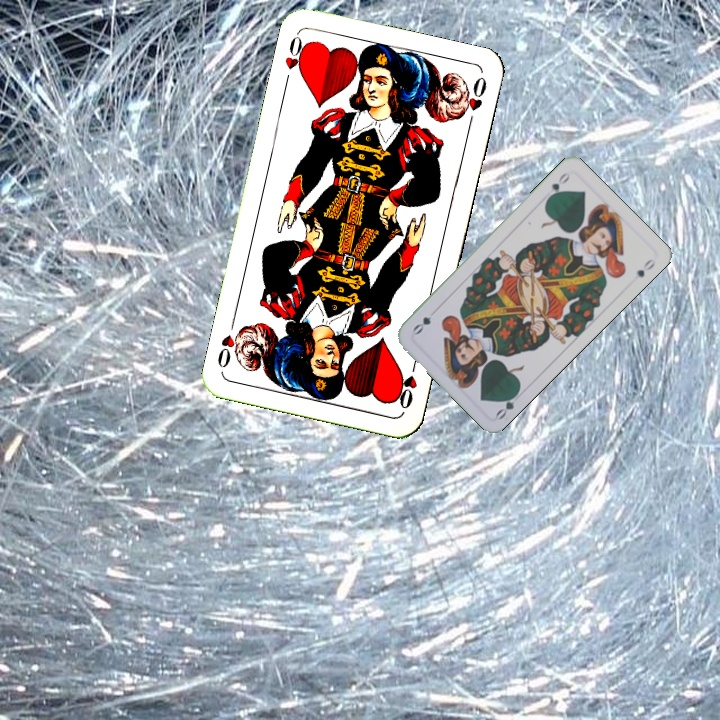GO: (492, 386, 522, 422), (543, 168, 572, 203)
HO: (280, 30, 311, 89), (393, 354, 420, 412)
